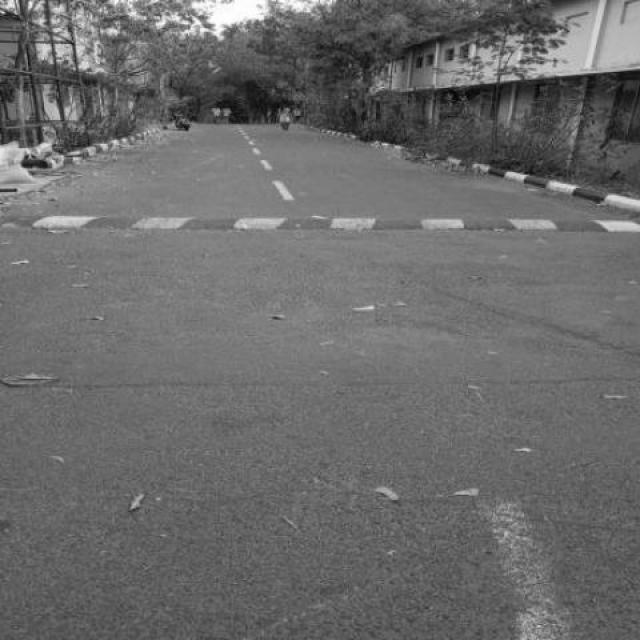Speed Bump: (0, 210, 639, 236)
